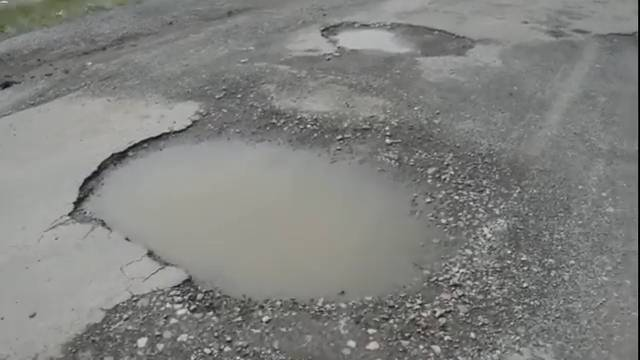pothole: (128, 153, 437, 313), (346, 250, 477, 360)
